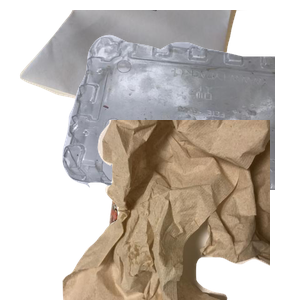glass: (98, 120, 286, 300)
paper: (17, 10, 254, 141)
plastic: (60, 32, 300, 212)
trash: (60, 120, 300, 300)
